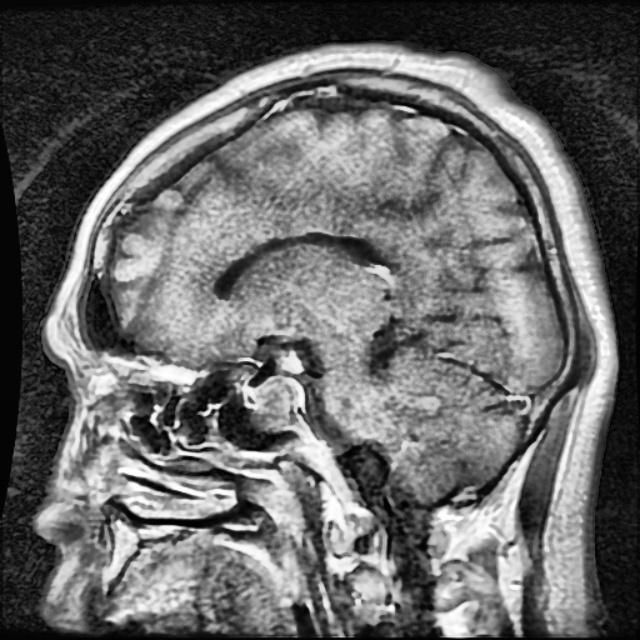Pituitary: (248, 373, 302, 430)
